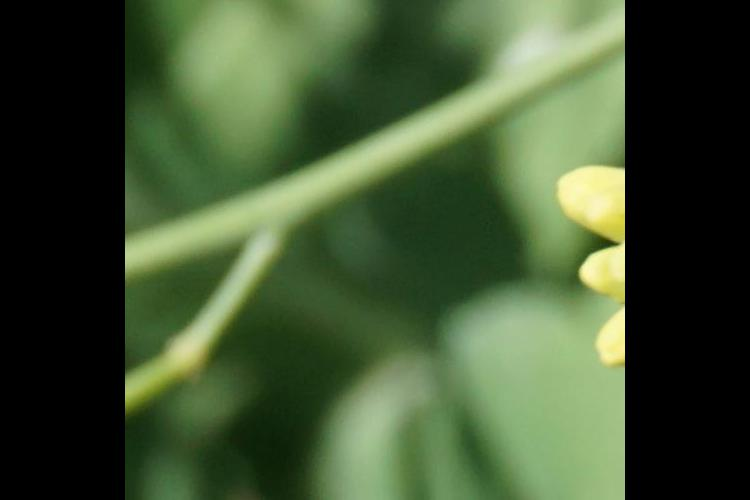bud: (563, 165, 625, 240), (583, 245, 625, 303), (590, 310, 624, 372)
